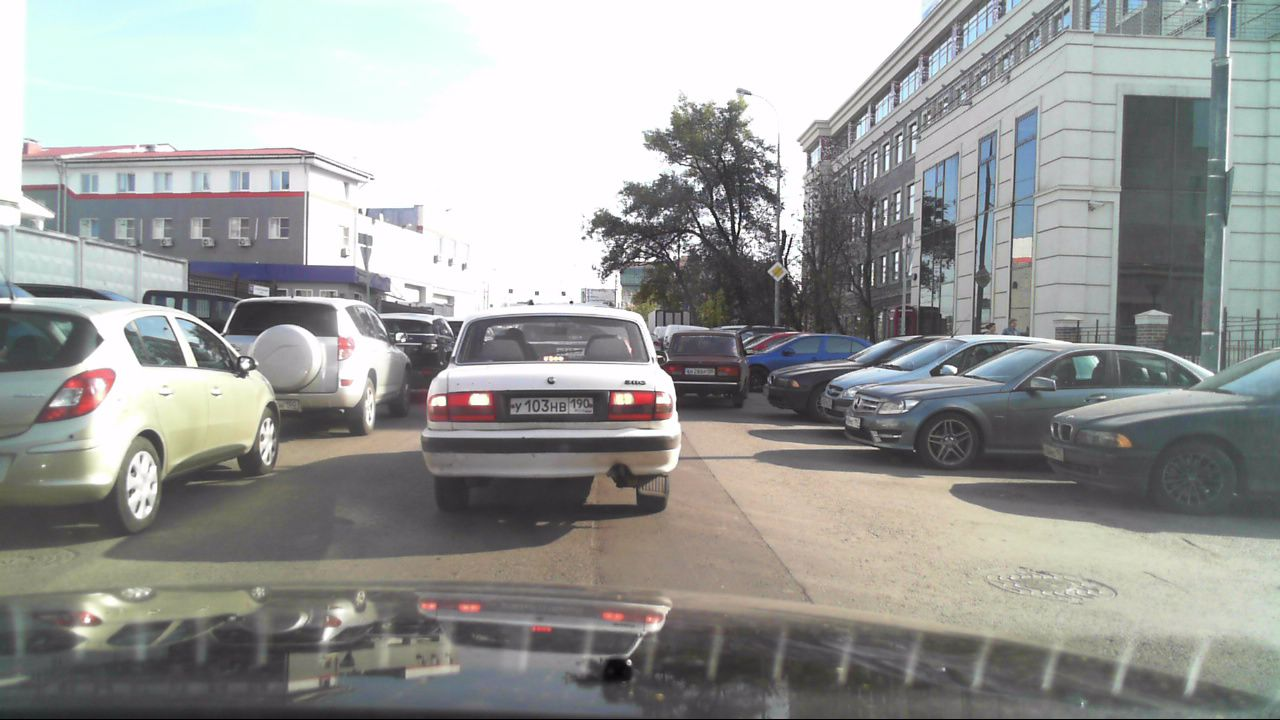main road: (767, 260, 788, 281)
